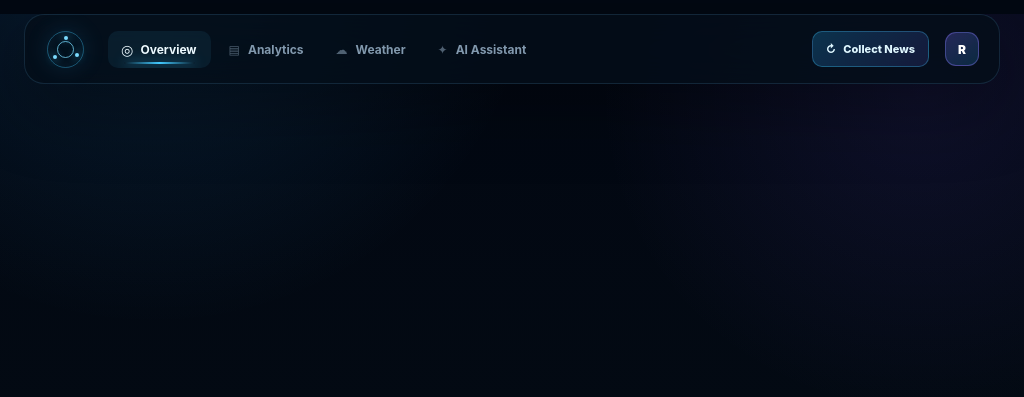
Test: Navbar › account menu › closes on Escape
The image size is (1024, 397).
Click the button named "Rashmika" at point(962, 49), box [939,28,985,70]
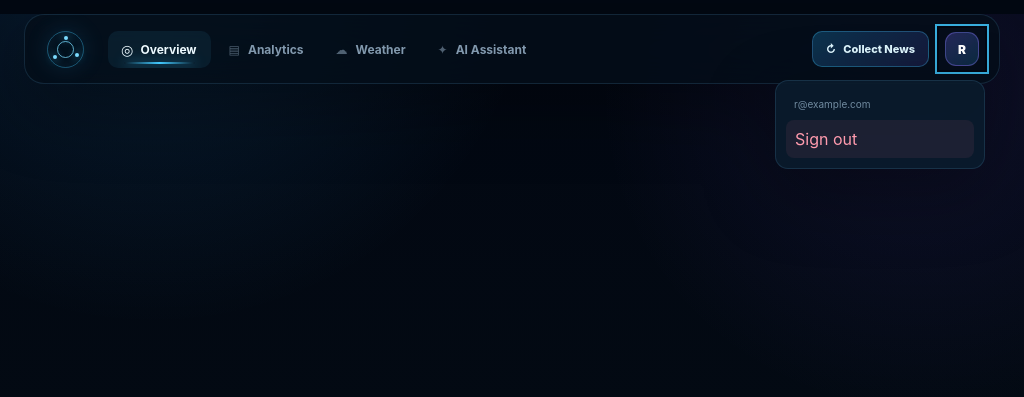
Press Escape
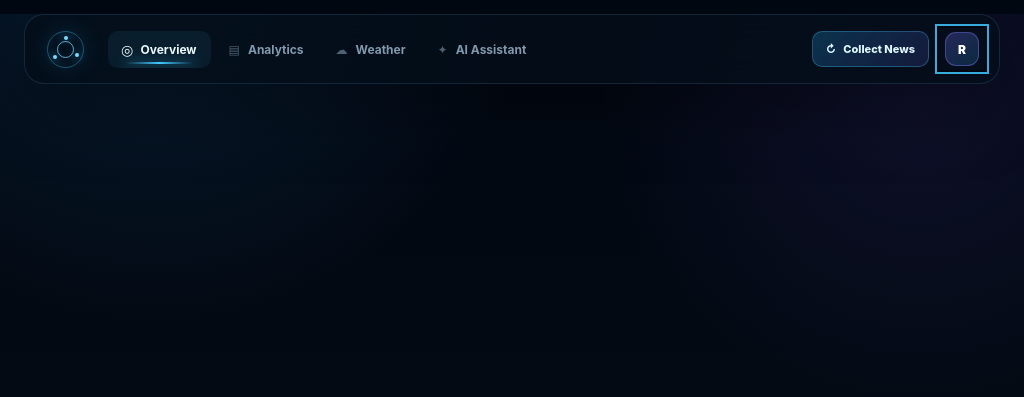
Check: the menu is gone
